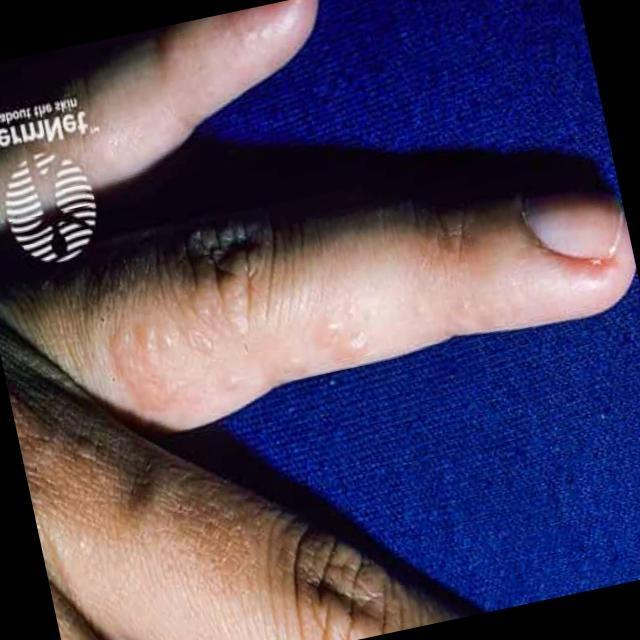Eczema: (106, 227, 380, 400)
